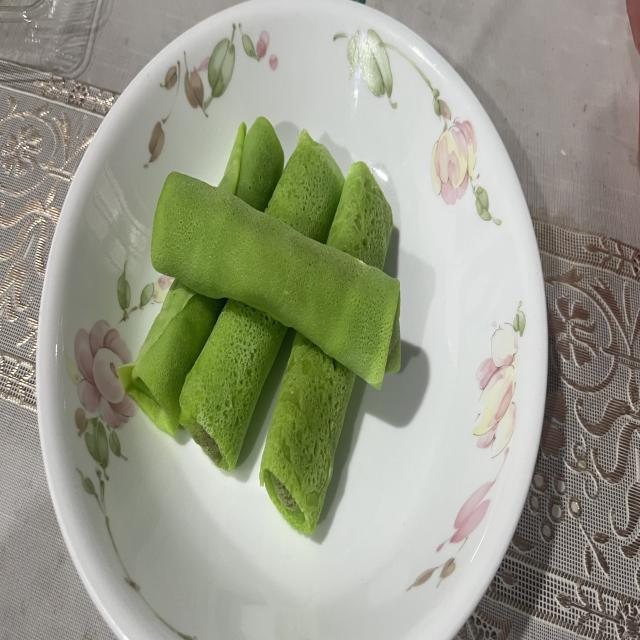Kuih-Ketayap: (151, 171, 400, 389), (260, 333, 355, 533), (180, 300, 286, 471), (120, 280, 225, 436), (265, 129, 344, 242), (328, 162, 392, 269), (328, 162, 391, 269), (219, 118, 284, 211)
